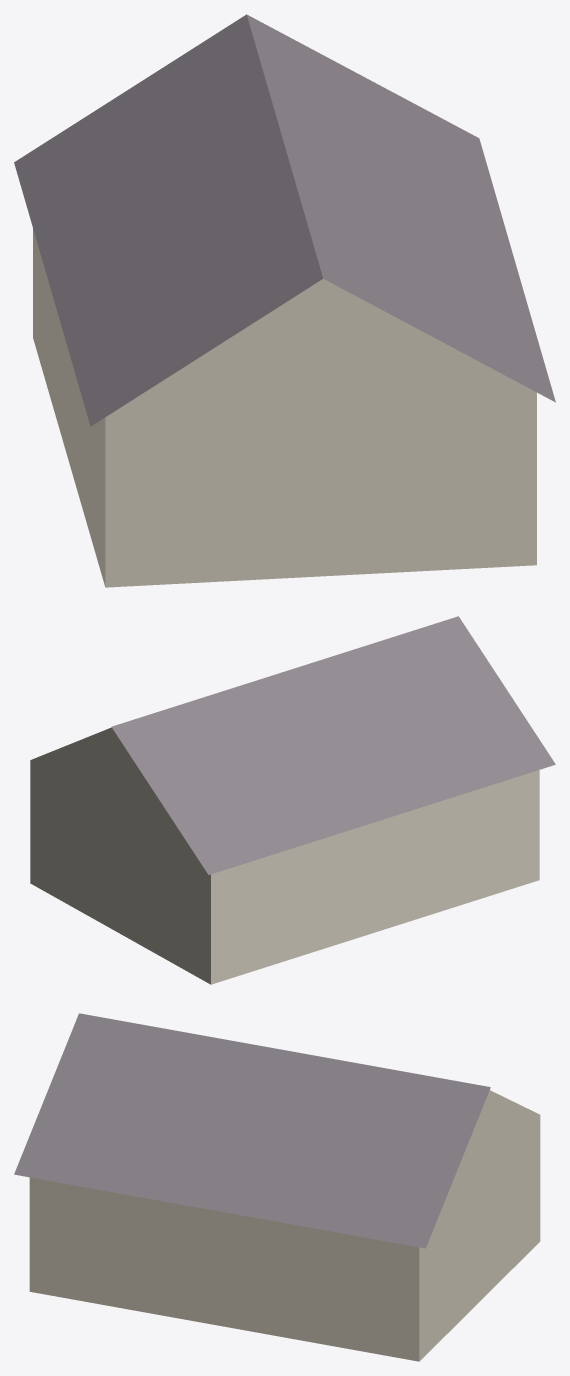
3 renders of one model, top to bottom at view 1: azimuth 30°, elevation 25°; view 2: azimuth 150°, elevation 25°; view 3: azimuth 270°, elevation 25°, orthographic. The views are drawn at different scales.
Visible parts, largest first — view 1: tuile; view 2: tuile; view 3: tuile.
Boxes of the visible parts, left/top/right/bottom form: tuile: left=14, top=14, right=555, bottom=587; tuile: left=30, top=616, right=555, bottom=984; tuile: left=14, top=1013, right=540, bottom=1361.
Bounding box in the file's own units: 13.96 × 6.93 × 15.72.
